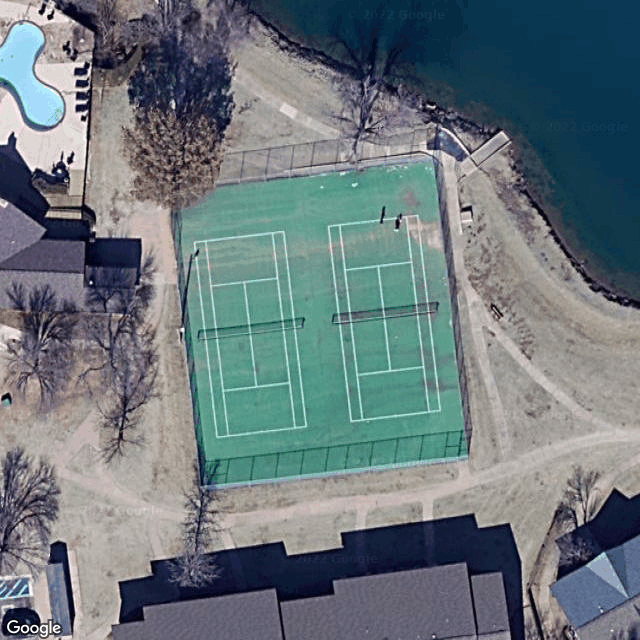Court: (326, 214, 443, 421), (194, 230, 308, 438)
